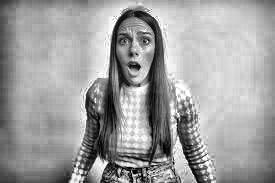surprised: (109, 18, 163, 94)
